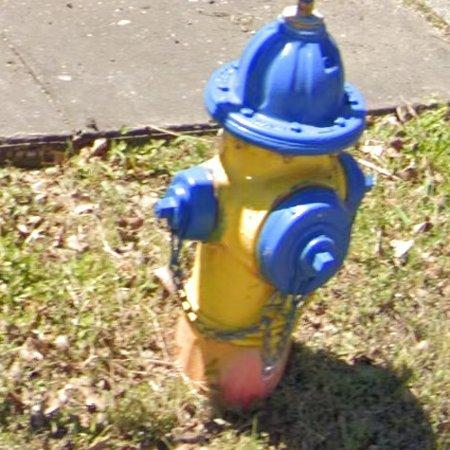a fire hydrant: (155, 0, 373, 406)
